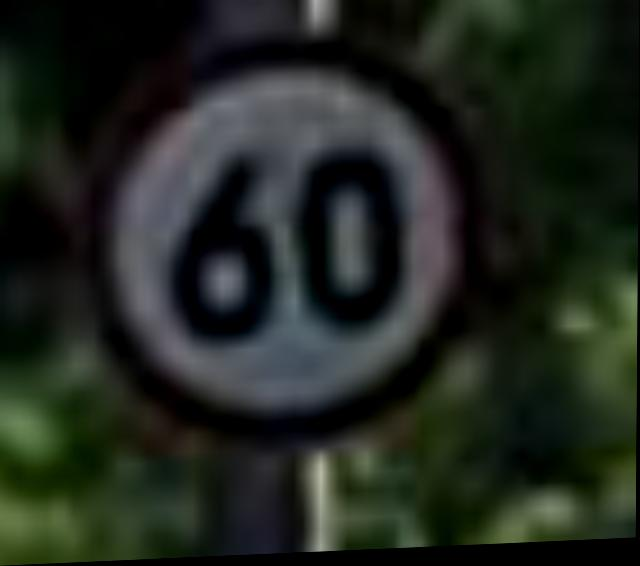limit60: (73, 16, 488, 446)
